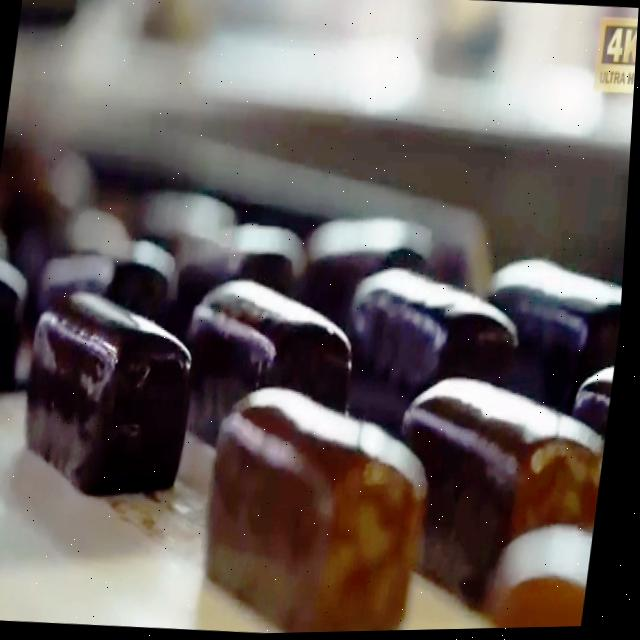Choco: (195, 376, 447, 636), (381, 366, 616, 633), (17, 278, 209, 502), (180, 267, 369, 441), (343, 257, 532, 400), (479, 252, 628, 411)
